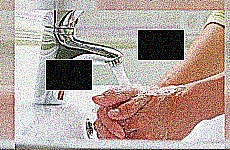washing hand: (62, 20, 207, 140)
